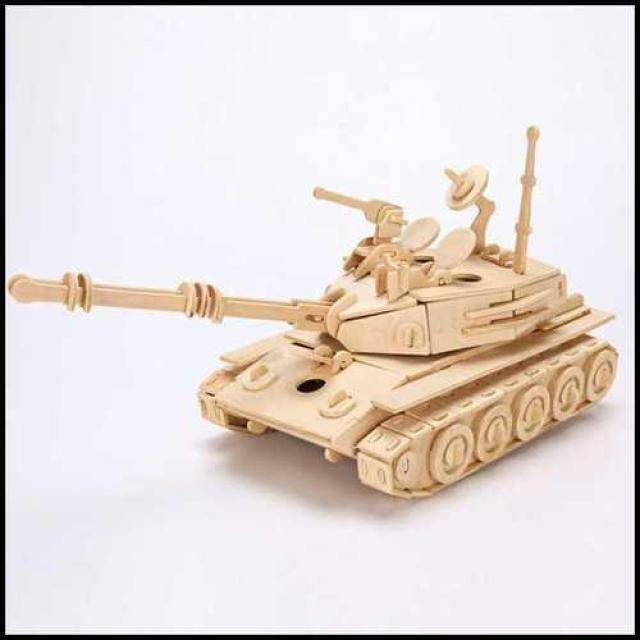Tanks: (15, 193, 612, 450)
